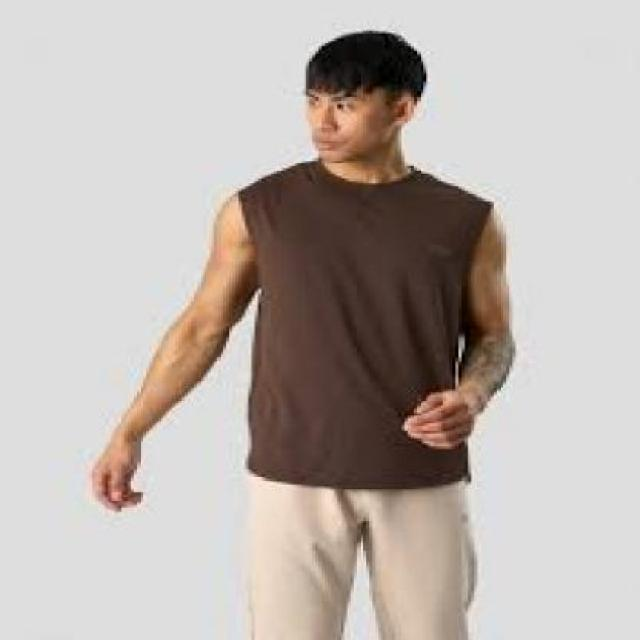no_vest: (241, 157, 492, 488)
